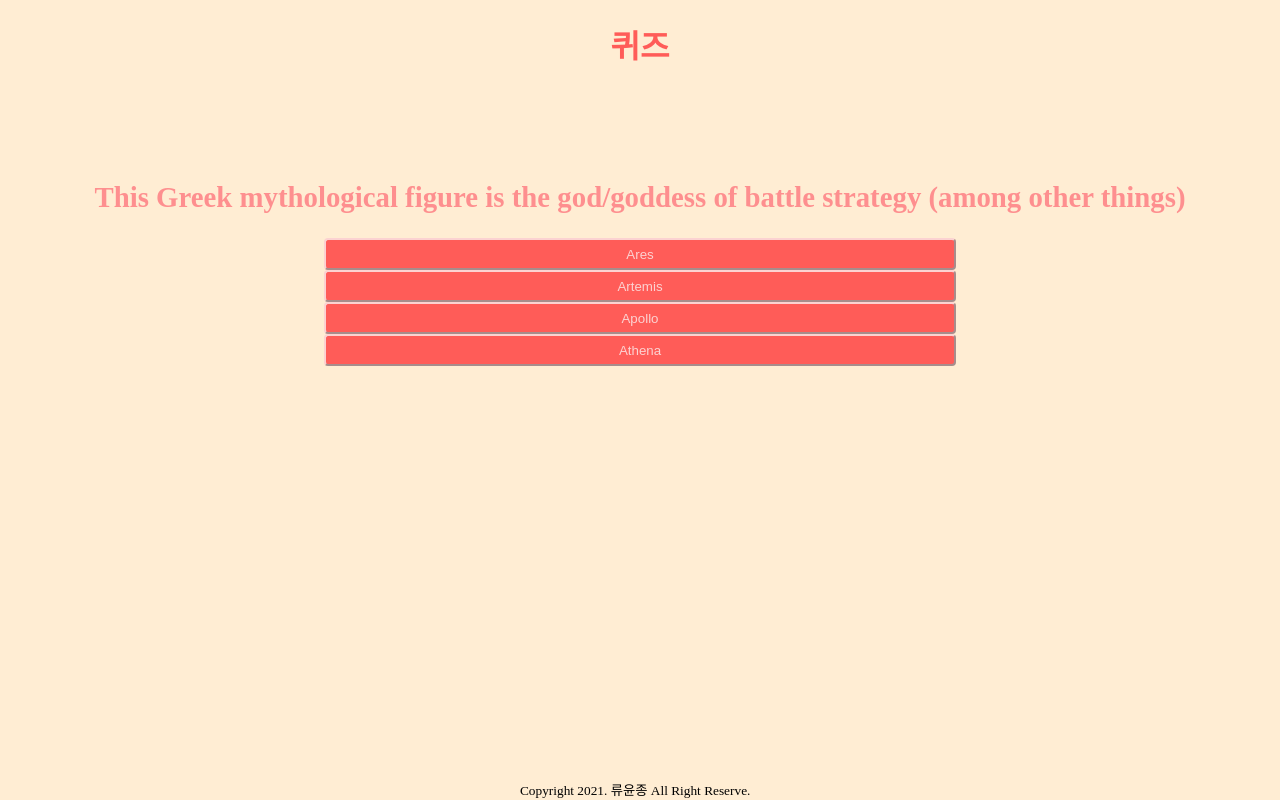
Test: Quiz 컴포넌트 › Quiz 컴포넌트 렌더링
The width and height of the screenshot is (1280, 800).
Check: the text "This Greek mythological figure is the god/goddess of battle strategy (among other things)" is shown, box [94,181,1186,213]
Check: the text "Ares" is shown, box [324,238,956,270]
Click the button "Athena".
click(640, 350)  # box [324,334,956,366]
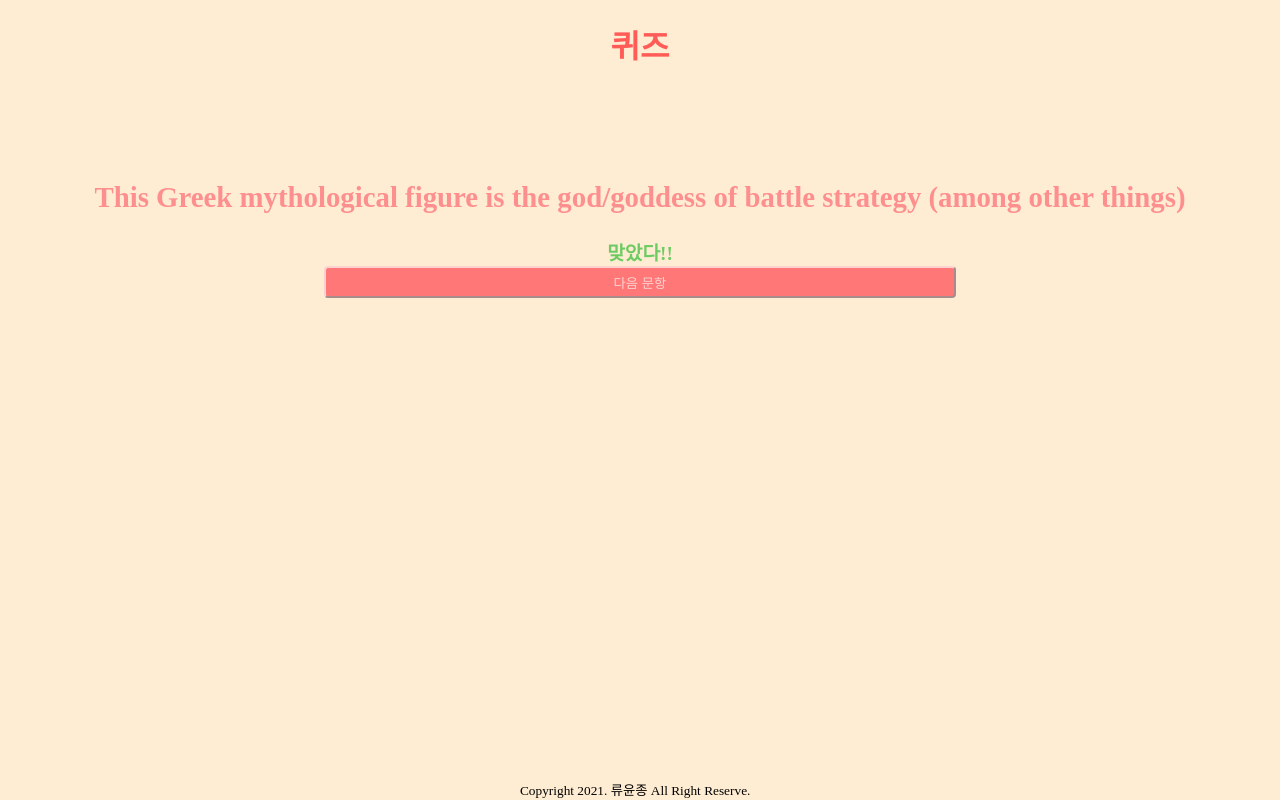
Check: the button "다음 문항" is shown, box [324,266,956,298]
